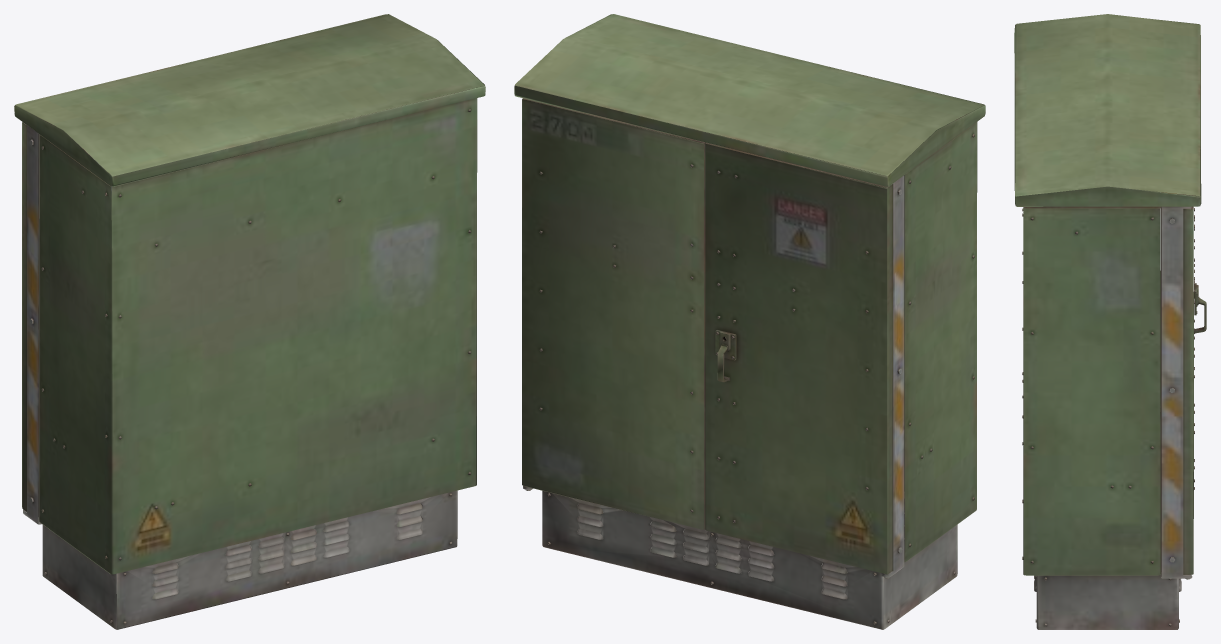
Rendered from utility_box.glb.
3 renders of one model, left to right at view 1: azimuth 30°, elevation 25°; view 2: azimuth 150°, elevation 25°; view 3: azimuth 270°, elevation 25°, orthographic. The views are drawn at different scales.
Visible parts, largest first — view 1: utility_box_02; view 2: utility_box_02; view 3: utility_box_02.
Boxes of the visible parts, x1,y1,x2,y2 form: utility_box_02: (14, 14, 485, 629); utility_box_02: (514, 14, 985, 629); utility_box_02: (1014, 14, 1206, 629).
Size of the model in its own units: 0.9185 by 1.12 by 0.432.
1 material, 1 textured.
